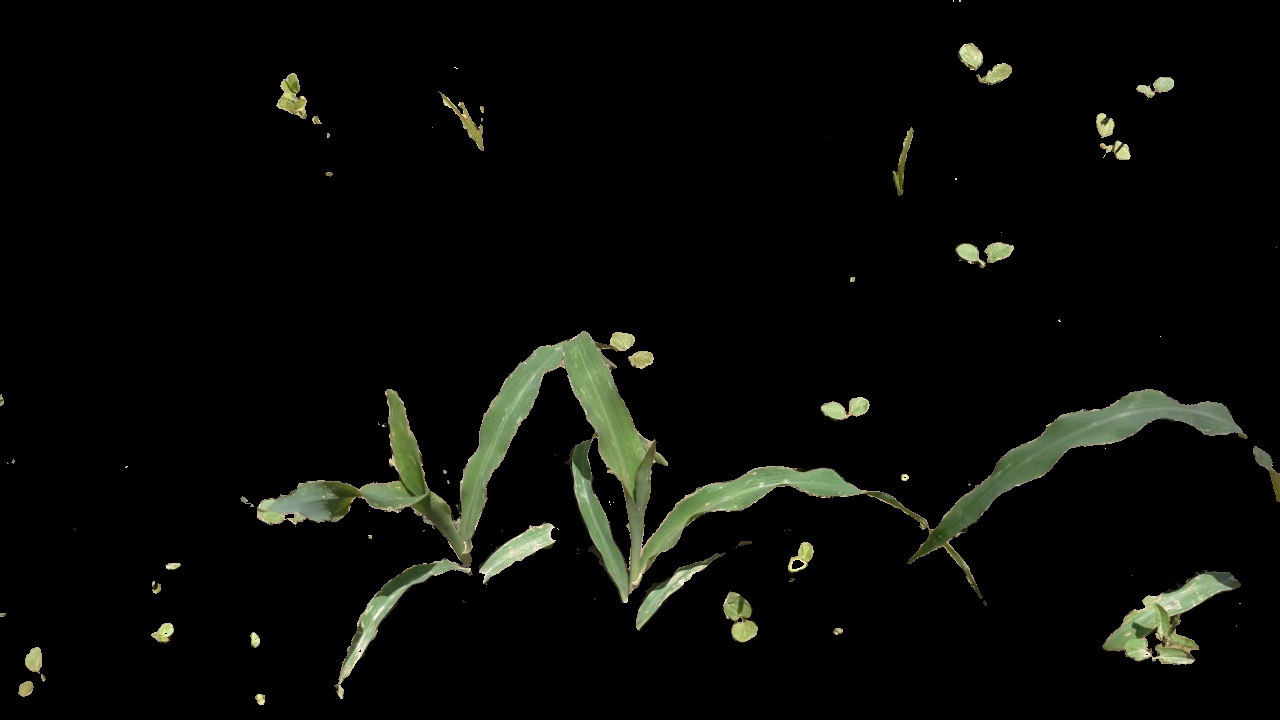crop: (566, 326, 921, 642), (289, 313, 540, 694)
weed: (433, 78, 504, 156), (1115, 608, 1206, 668), (885, 105, 925, 194), (604, 321, 669, 374), (960, 226, 1022, 279), (1092, 105, 1141, 172), (718, 588, 769, 649), (959, 34, 1012, 90), (269, 69, 320, 126), (18, 636, 50, 704), (820, 385, 872, 423), (1128, 62, 1185, 94), (783, 539, 822, 582), (141, 617, 172, 645)
